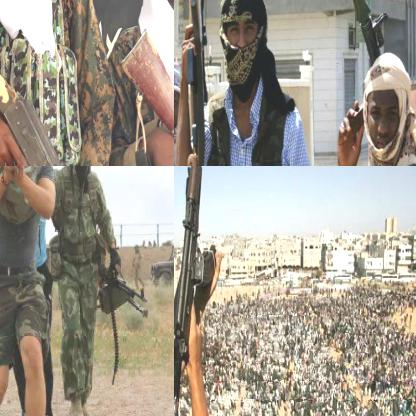rifle: (0, 4, 100, 165), (319, 0, 391, 124), (174, 166, 217, 368), (118, 25, 173, 165), (182, 0, 222, 165), (97, 262, 158, 333)
